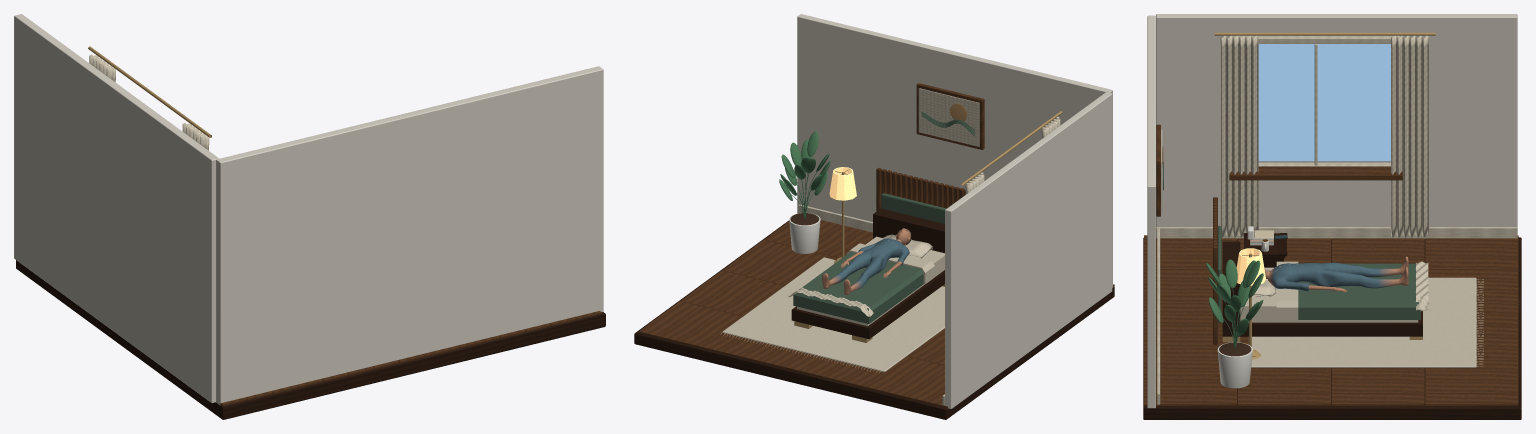
The model's file is bedroom.glb.
3 views of the same model, side by side, from view 1: azimuth 30°, elevation 25°; view 2: azimuth 150°, elevation 25°; view 3: azimuth 270°, elevation 25° (orthographic). The views are drawn at different scales.
Parts seen in each view (by area): view 1: Headboard wall, Left wall, Floor foundation, Curtain rail; view 2: Left wall, Headboard wall, Woven bedside rug, Floor foundation, cover, bedSingle, Artwork paper, Plane.007, Headboard upholstered inset, Artwork oak frame, Light_Stand1, Oak floor plank.051 (+25 smaller); view 3: Left wall, Window dusk pane, Woven bedside rug, Linen curtain.001, Linen curtain, Floor foundation, cover, bedSingle, Headboard wall, Side skirting, Plane.007, Deep window sill (+53 smaller).
Boxes of the visible parts, box(x1,y1,x2,y2) form: Headboard wall: box(216, 66, 603, 405); Left wall: box(14, 14, 219, 403); Floor foundation: box(16, 260, 605, 419); Curtain rail: box(88, 46, 211, 137); Left wall: box(945, 92, 1112, 408); Headboard wall: box(797, 14, 1112, 287); Woven bedside rug: box(722, 257, 944, 372); Floor foundation: box(634, 220, 1114, 419); cover: box(793, 243, 934, 323); bedSingle: box(791, 208, 944, 342); Artwork paper: box(918, 88, 979, 146); Plane.007: box(822, 238, 909, 295); Headboard upholstered inset: box(881, 193, 946, 223); Artwork oak frame: box(916, 83, 984, 149); Light_Stand1: box(829, 167, 856, 263); Oak floor plank.051: box(680, 311, 741, 347); Left wall: box(1156, 14, 1517, 226); Window dusk pane: box(1258, 44, 1390, 161); Woven bedside rug: box(1248, 277, 1476, 367); Linen curtain.001: box(1391, 35, 1428, 237); Linen curtain: box(1220, 35, 1258, 237); Floor foundation: box(1143, 237, 1521, 419); cover: box(1276, 261, 1420, 320); bedSingle: box(1222, 241, 1422, 342); Headboard wall: box(1147, 15, 1155, 408); Side skirting: box(1156, 227, 1517, 238); Plane.007: box(1268, 256, 1408, 291); Deep window sill: box(1229, 166, 1402, 180).
Size of the model in its own units: 4.75 by 3 by 4.4.
Materials: 25 (6 with a texture image).
